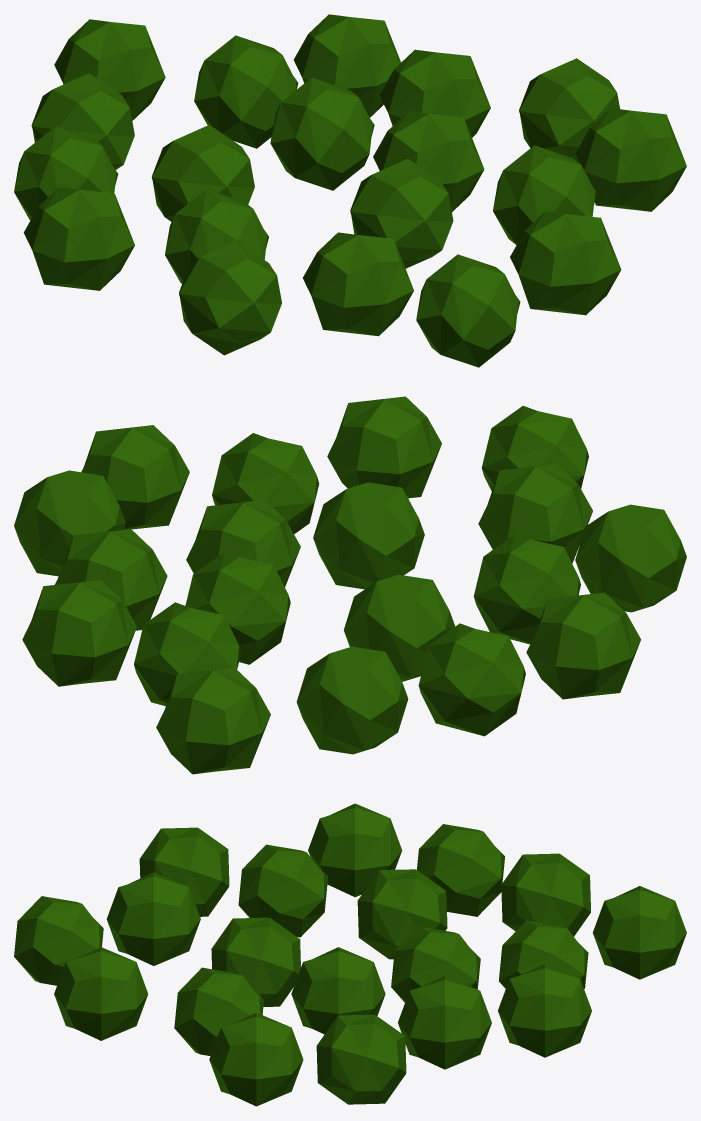
The model's file is peas.obj.
3 views of the same model, one above another, from view 1: azimuth 30°, elevation 25°; view 2: azimuth 150°, elevation 25°; view 3: azimuth 270°, elevation 25° (orthographic). The views are drawn at different scales.
Size of the model in its own units: 3.2 by 0.5106 by 3.64.
